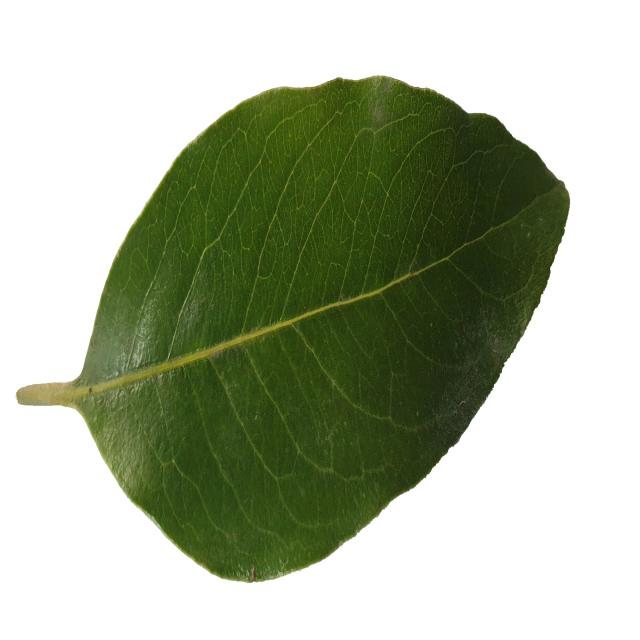Medicinal-Sandalwood: (17, 73, 570, 582)
